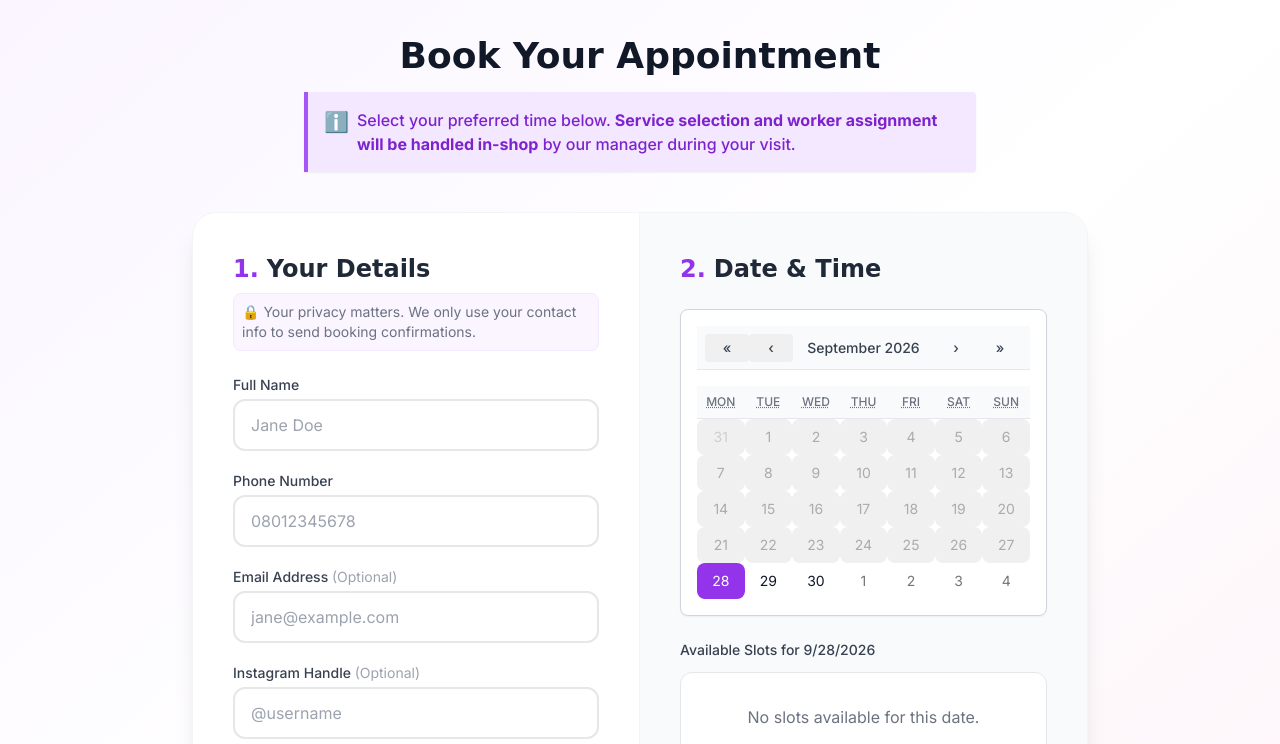
Test case: PublicBooking Component › validates phone number format
The image size is (1280, 744).
Type "123" into the field with placeholder "08012345678" at [416, 521], box [233,495,599,547]
(page scrolled)
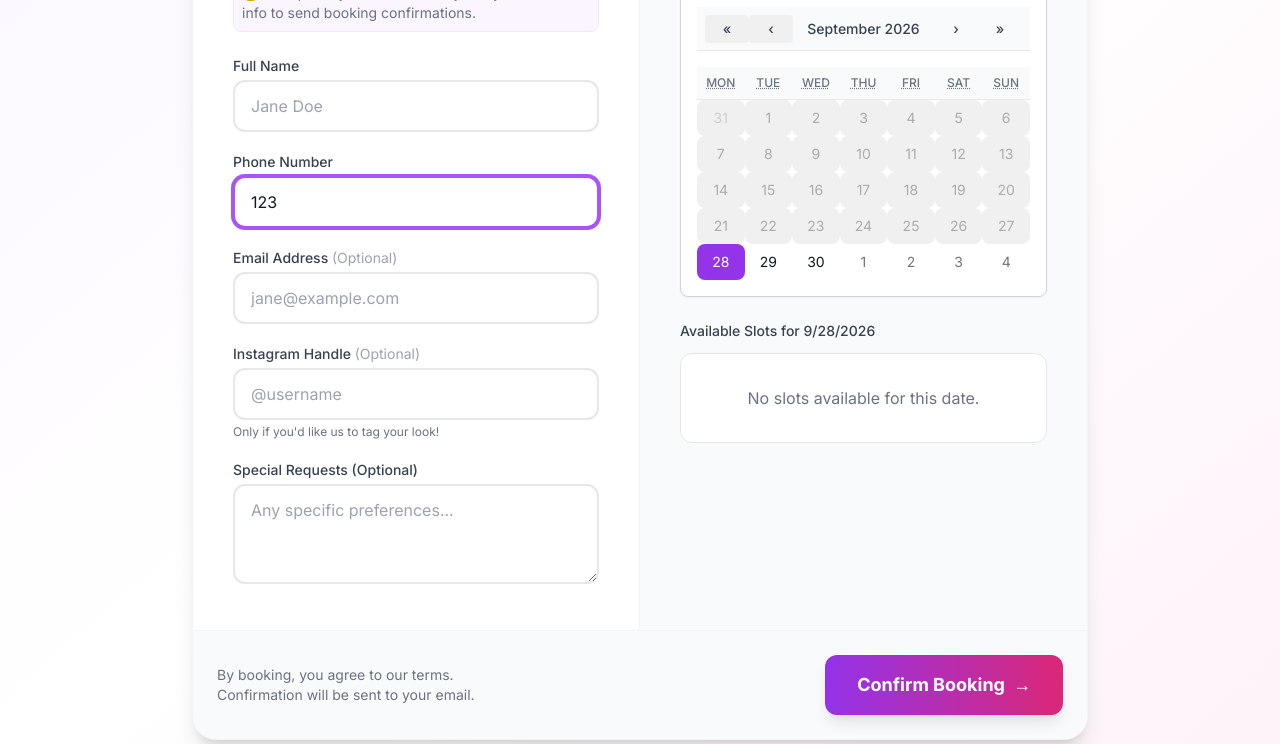
Click the text "Confirm Booking" at [931, 685], box [857,671,1005,699]
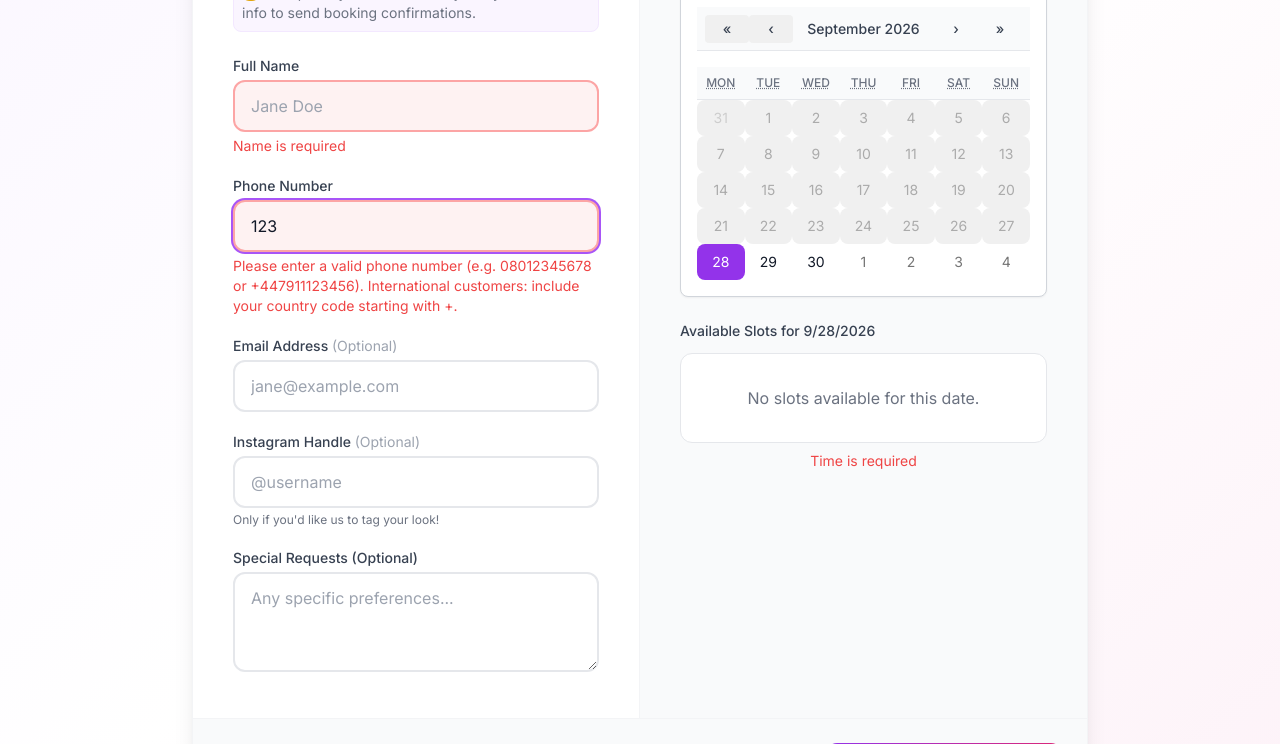
Now the text "Please enter a valid phone number" is shown, box [233,257,592,314]
